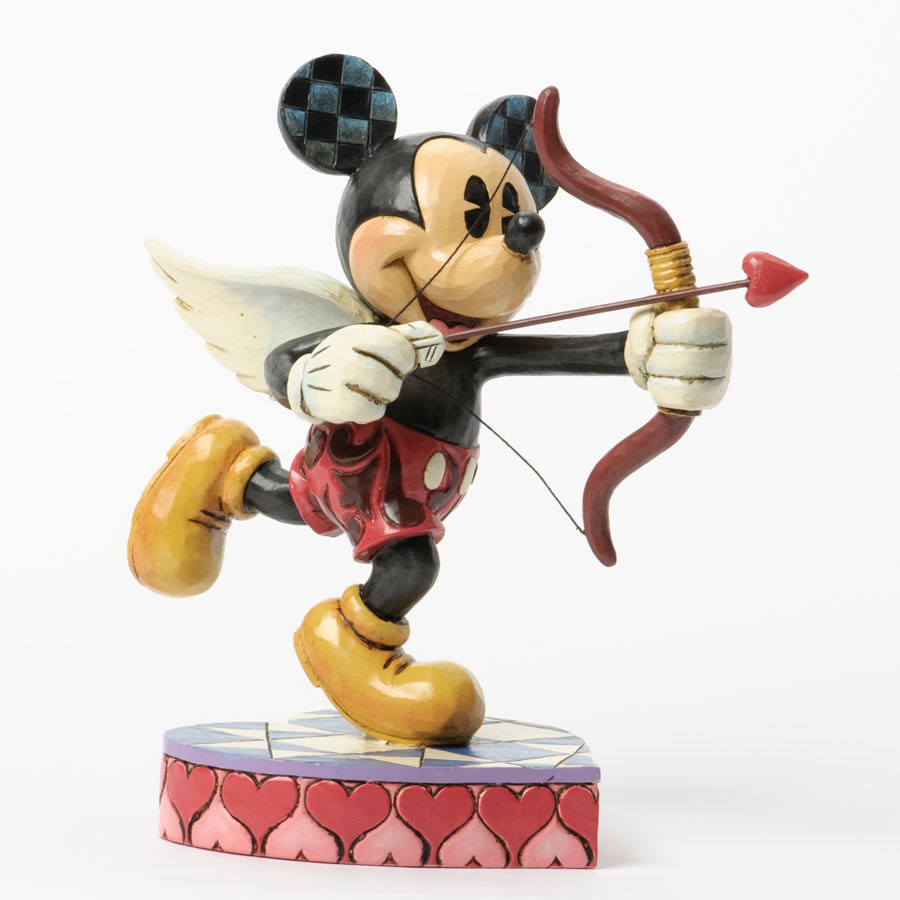Mickey: (274, 51, 564, 352)
